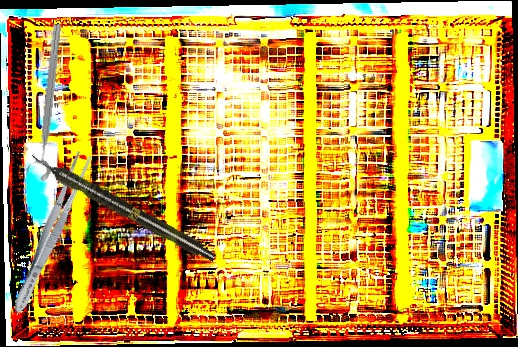Dressing Forceps: (7, 149, 95, 317)
Fixation Ring: (23, 22, 67, 182)
Handpiece: (27, 148, 219, 267)
